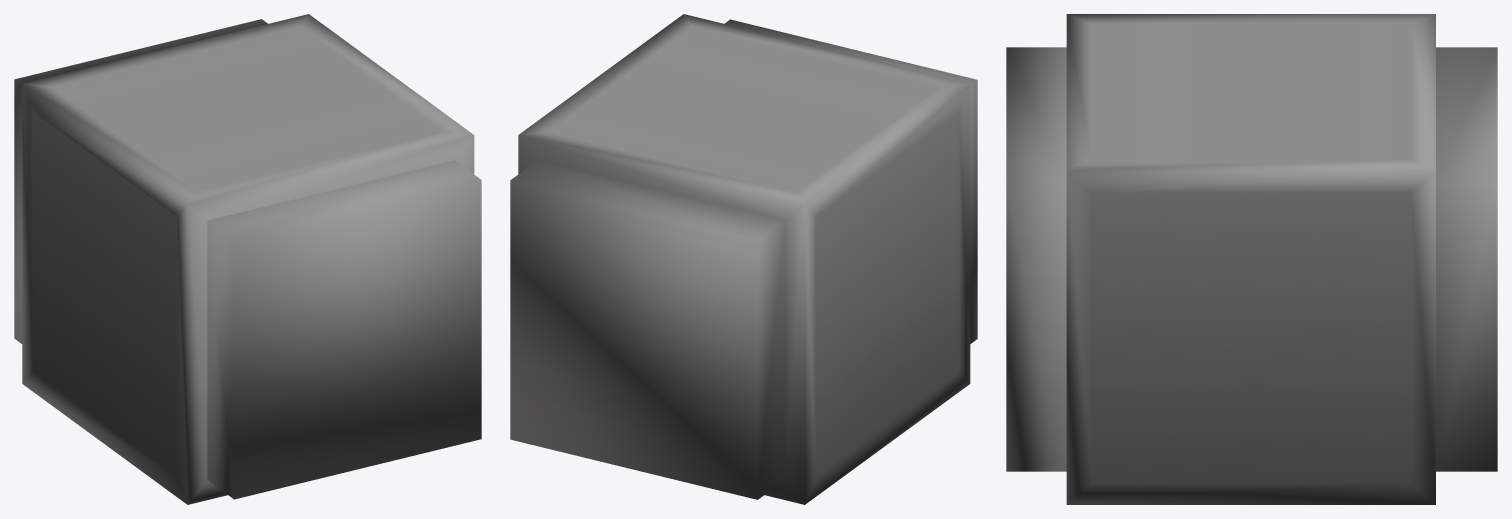
Rendered from TubulationDubleConnectionEng.fbx.
3 views of the same model, side by side, from view 1: azimuth 30°, elevation 25°; view 2: azimuth 150°, elevation 25°; view 3: azimuth 270°, elevation 25° (orthographic). The views are drawn at different scales.
Visible parts, largest first — view 1: TubulationDubleConnectionEng; view 2: TubulationDubleConnectionEng; view 3: TubulationDubleConnectionEng.
Part boxes in pixels (<box>): TubulationDubleConnectionEng: <box>14,14,481,504</box>; TubulationDubleConnectionEng: <box>510,14,977,504</box>; TubulationDubleConnectionEng: <box>1006,14,1497,504</box>.
Bounding box in the file's own units: 60 × 60 × 79.79.
1 material, 1 textured.
